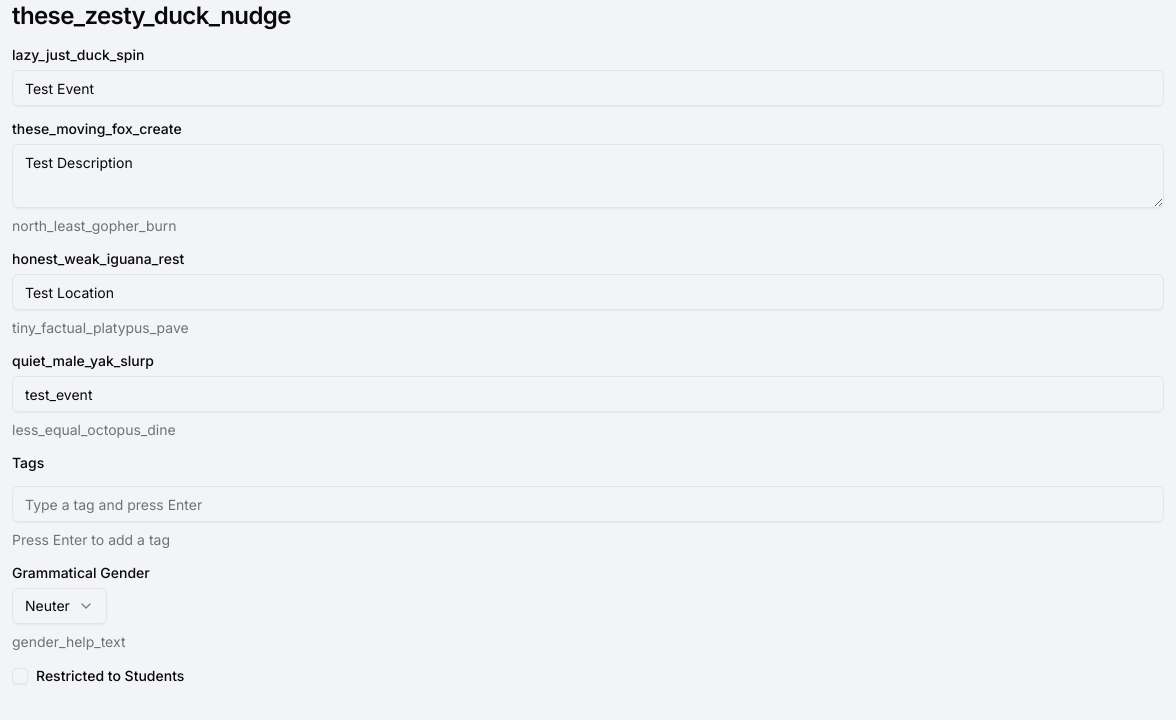
Test: EventForm Component › should enable submit button when form is changed
Replace the text in the field with test id "event-form-title" with "Changed". click: (588, 88)
box: top-left (12, 70), bottom-right (1164, 106)
(page scrolled)
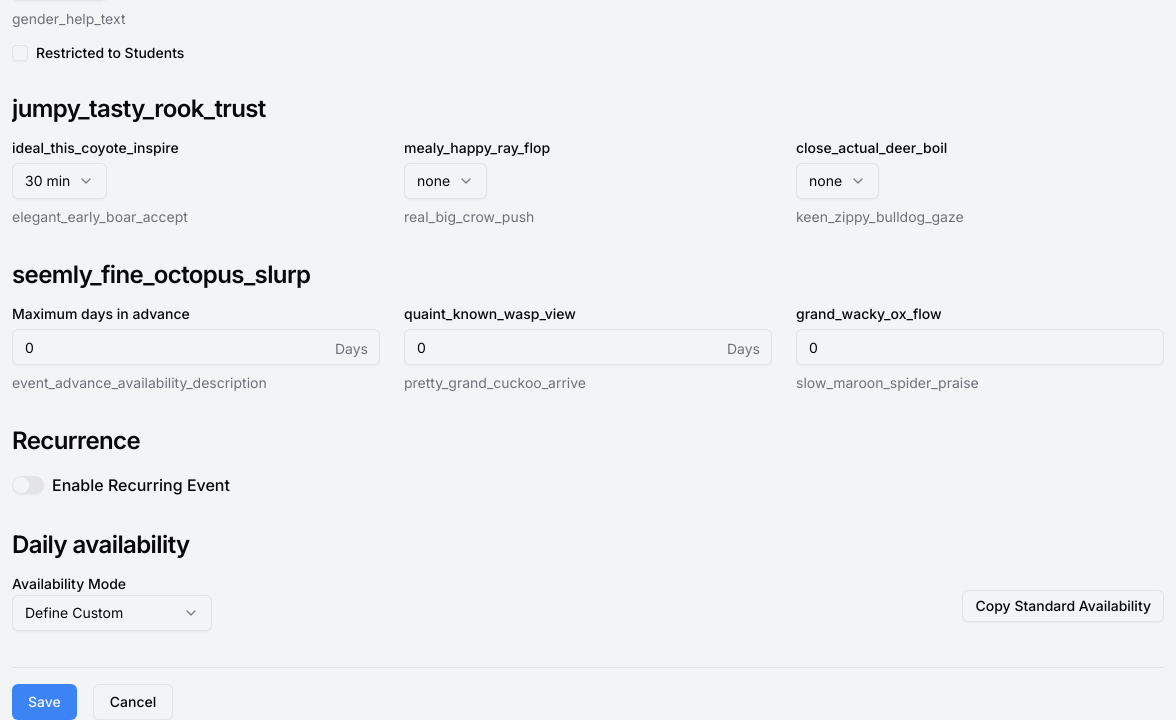
expect the button with test id "event-form-submit" is enabled: met, box top-left (12, 684), bottom-right (77, 719)
